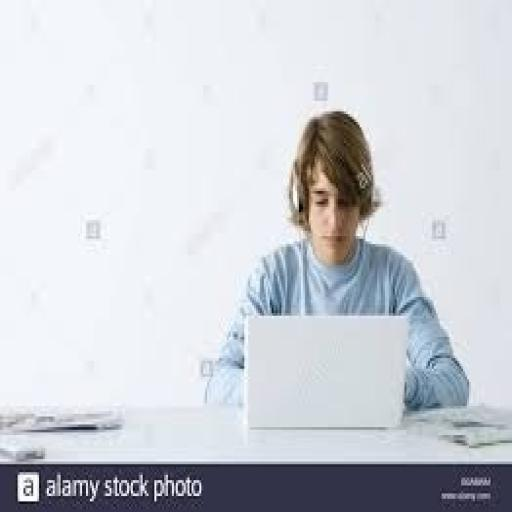using_laptop: (240, 313, 408, 430)
